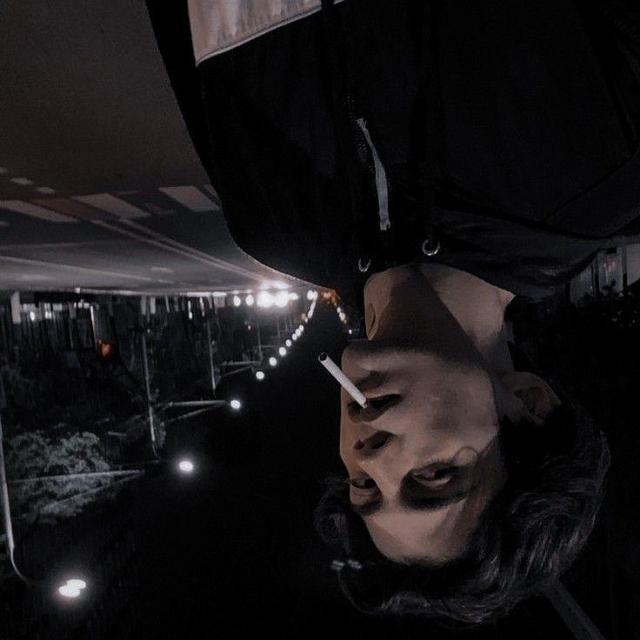cigarette: (298, 327, 388, 447)
